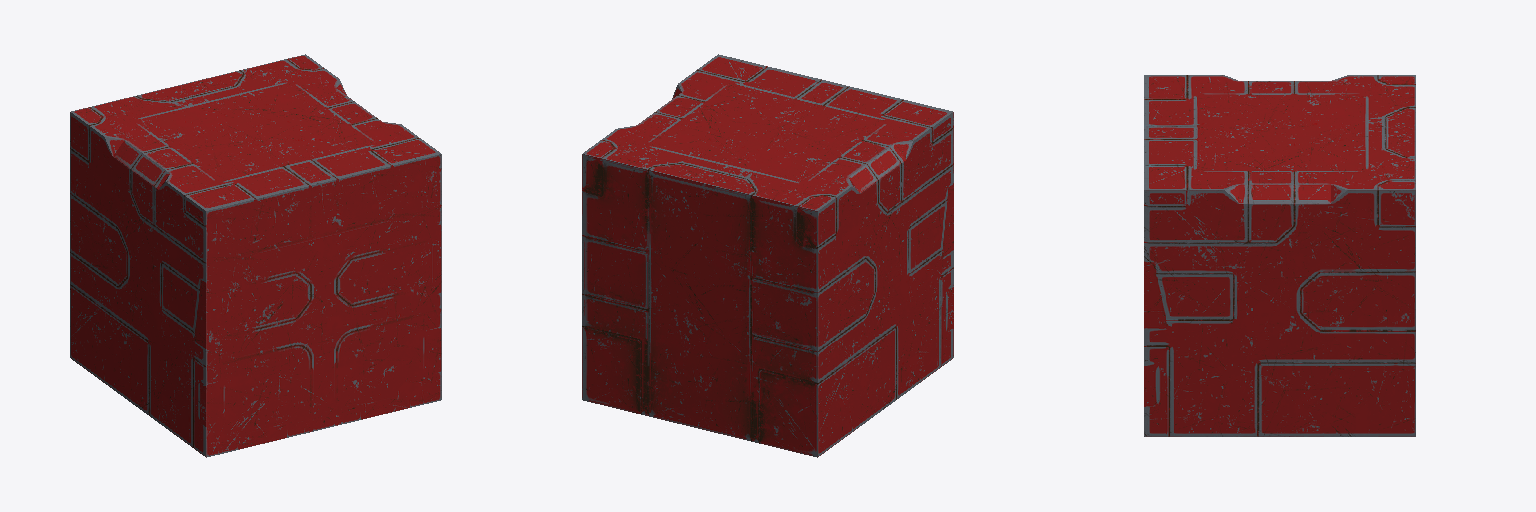
3 views of the same model, side by side, from view 1: azimuth 30°, elevation 25°; view 2: azimuth 150°, elevation 25°; view 3: azimuth 270°, elevation 25° (orthographic).
Parts seen in each view (by area): view 1: obj1; view 2: obj1; view 3: obj1.
Boxes of the visible parts, <box> form: obj1: <box>70,54,441,457</box>; obj1: <box>582,54,953,457</box>; obj1: <box>1144,75,1415,436</box>.
Size of the model in its own units: 1.99 by 1.99 by 1.99.
Materials: 1 (1 with a texture image).